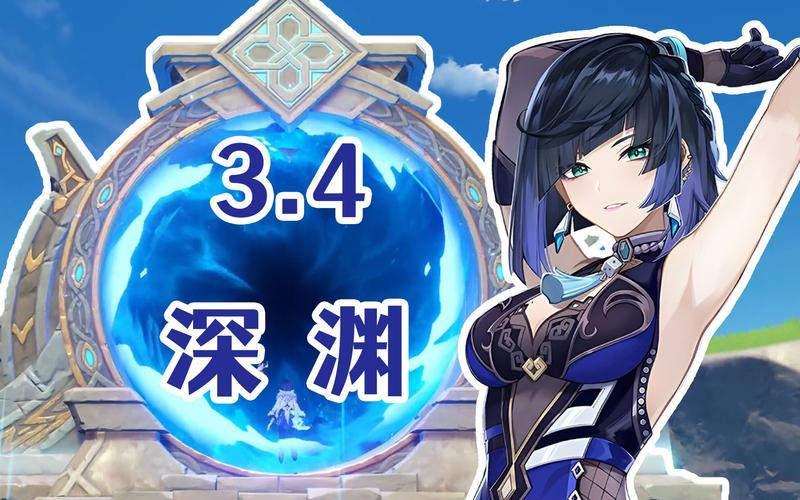夜兰: (460, 16, 800, 500)
